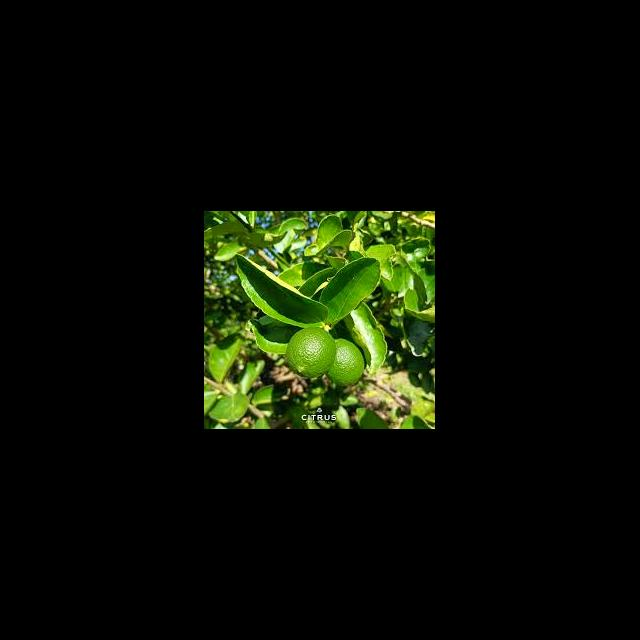lime: (286, 328, 336, 379), (328, 338, 366, 387)
